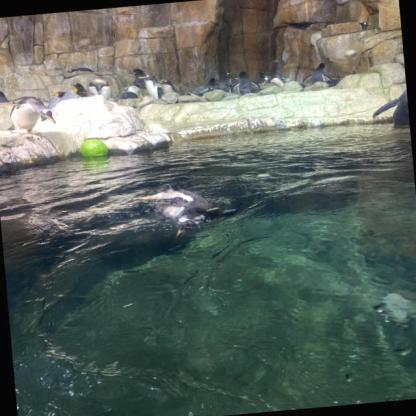penguin: (134, 181, 236, 241), (369, 79, 410, 133), (7, 94, 57, 138), (300, 60, 338, 91), (231, 70, 259, 95), (193, 75, 224, 97), (262, 72, 289, 90), (138, 73, 159, 96), (131, 67, 149, 92), (159, 78, 180, 98), (85, 80, 100, 96), (54, 89, 71, 103), (101, 82, 111, 100), (72, 82, 84, 97), (0, 90, 6, 103)
